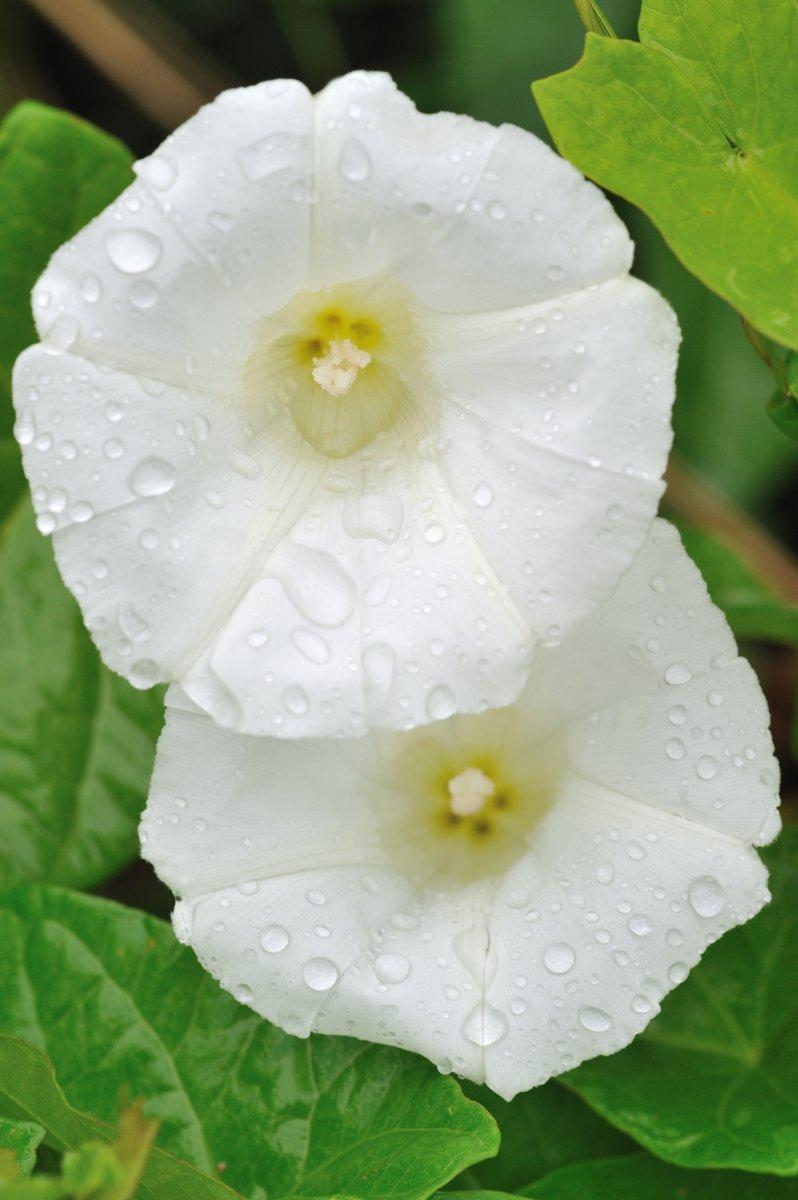haagwinde: (10, 65, 798, 1097)
